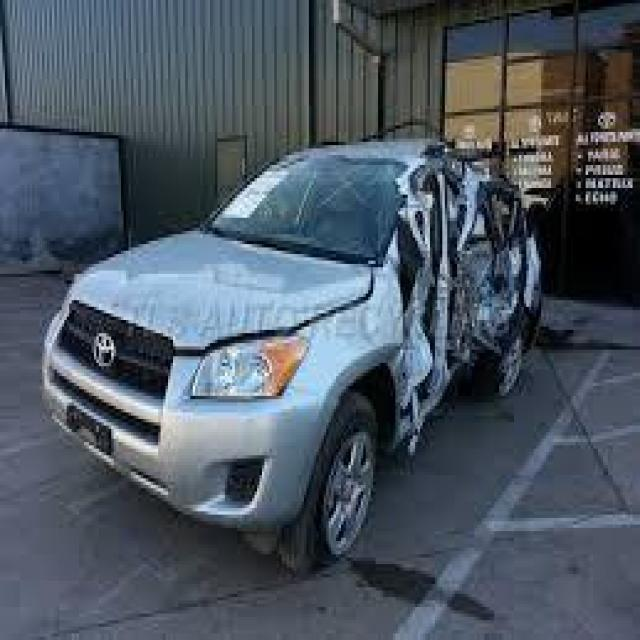damaged: (383, 142, 546, 452)
